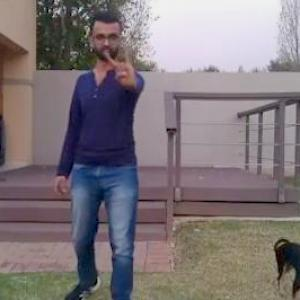takeoff-hand: (103, 40, 138, 89)
